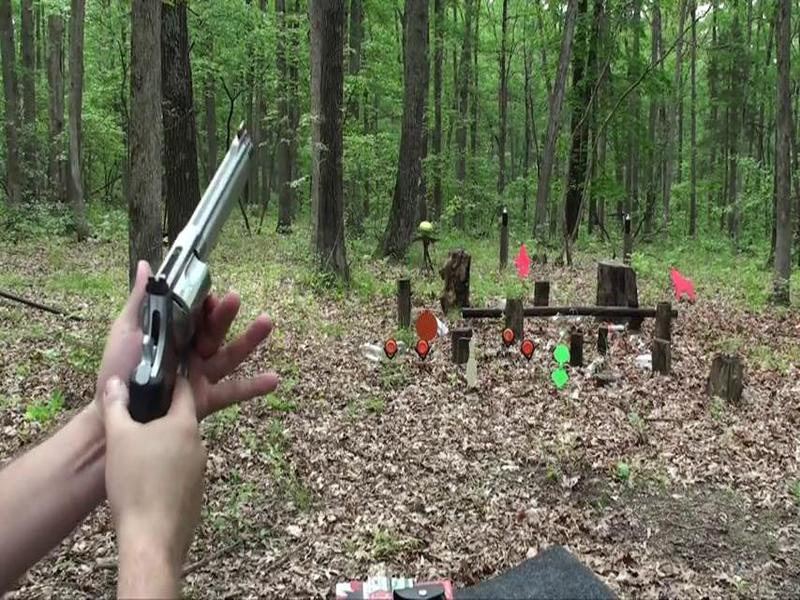Revolver: (150, 107, 282, 419)
